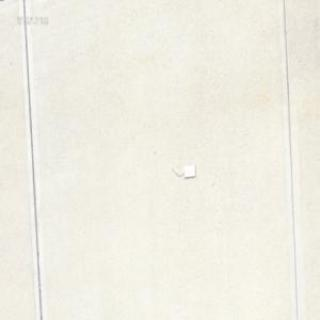LuggageTagtrack_idkeyframe: (168, 161, 196, 179)
